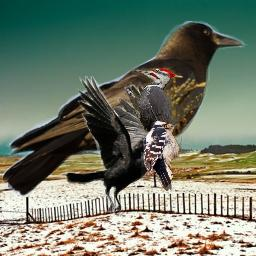Crow: (2, 16, 248, 204), (65, 76, 159, 218)
Woodpecker: (124, 68, 176, 170), (141, 119, 189, 191)
